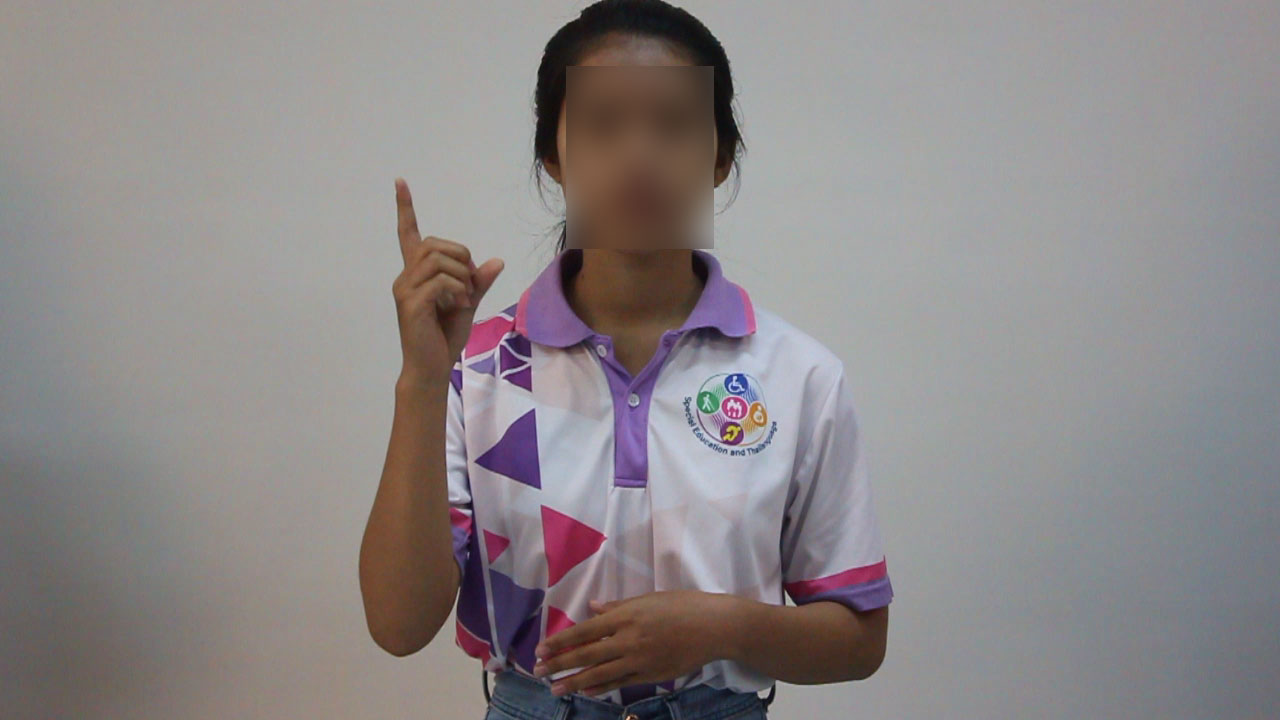dor: (383, 166, 515, 389)
